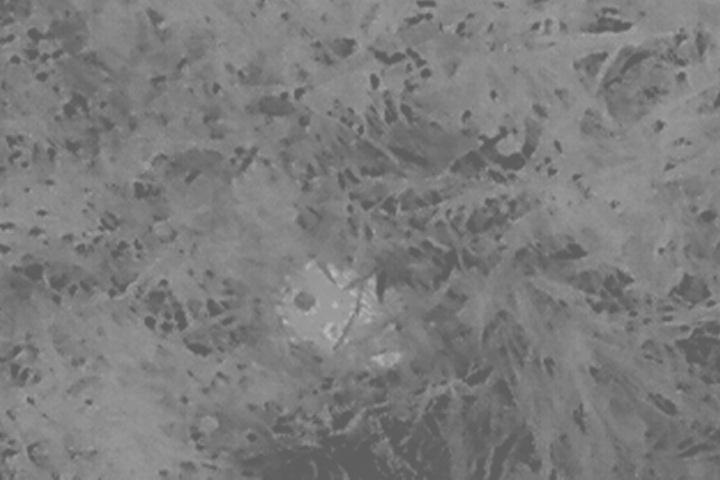landmine: (262, 246, 409, 375)
